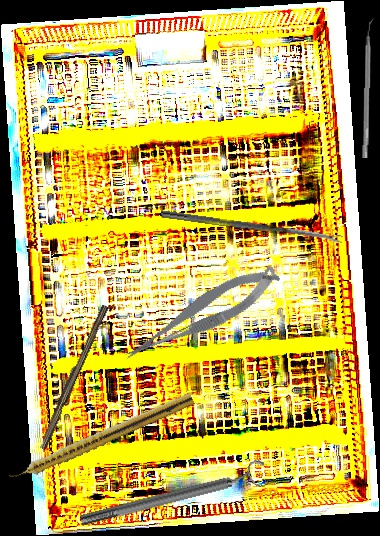Fixation Ring: (77, 458, 270, 534)
Handpiece: (5, 388, 196, 486)
Micro Scissor: (114, 259, 288, 367)
Scalpel Handle: (36, 302, 110, 452)
Spatula Surgical: (362, 17, 377, 159)
Surgical Spoon: (160, 210, 343, 244)
